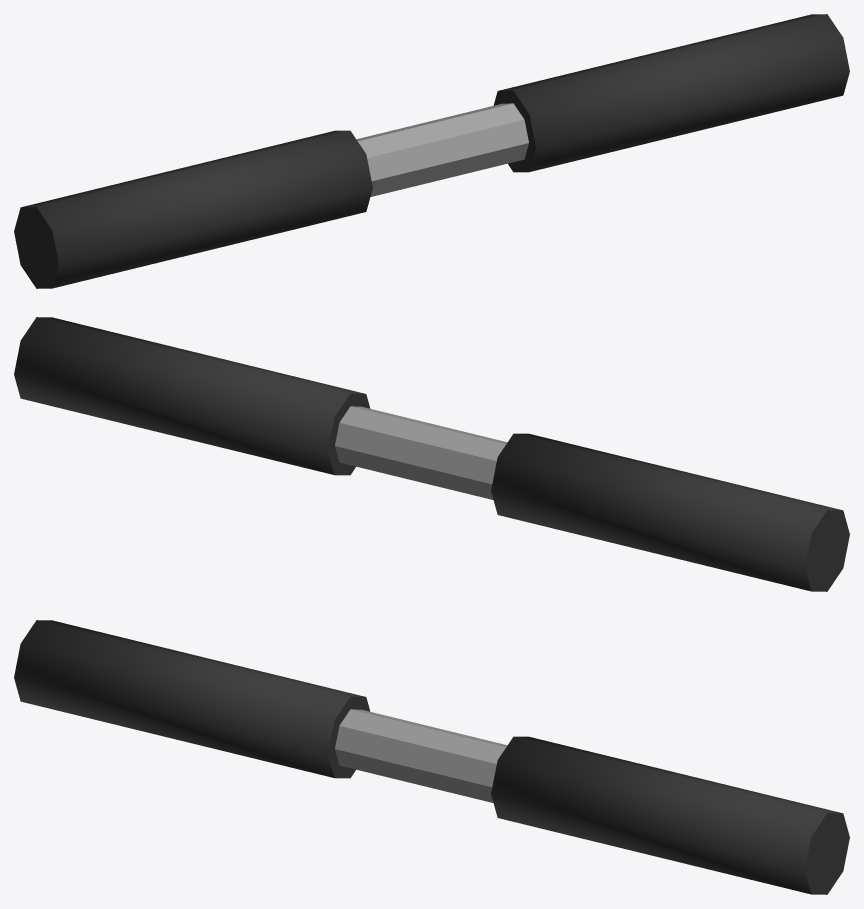
File: stationary-rowing-machine-a.glb
3 renders of one model, top to bottom at view 1: azimuth 30°, elevation 25°; view 2: azimuth 150°, elevation 25°; view 3: azimuth 330°, elevation 25°, orthographic.
Visible parts, largest first — view 1: Stationary_Rowing_Machine_A; view 2: Stationary_Rowing_Machine_A; view 3: Stationary_Rowing_Machine_A.
Part boxes in pixels (x1,y1,x2,y2): Stationary_Rowing_Machine_A: [14, 14, 849, 288]; Stationary_Rowing_Machine_A: [14, 317, 849, 591]; Stationary_Rowing_Machine_A: [14, 620, 849, 894].
Bounding box in the file's own units: 67.25 × 6.64 × 6.64.
1 material, 1 textured.
